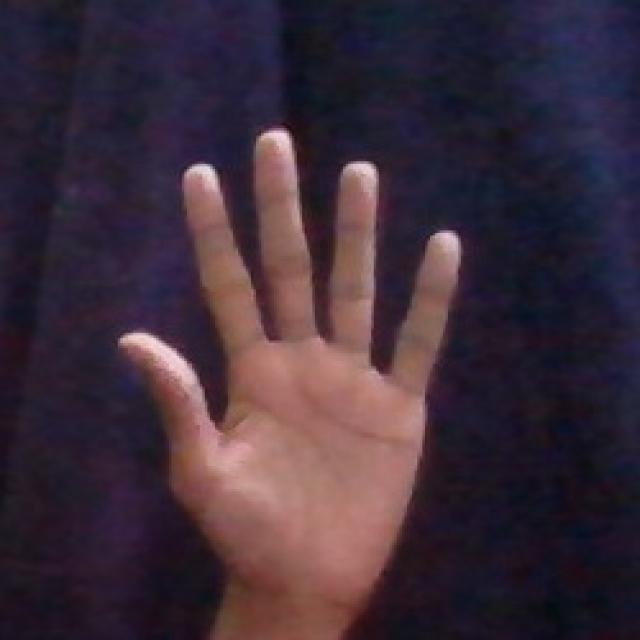Numeric-5: (119, 129, 463, 594)
